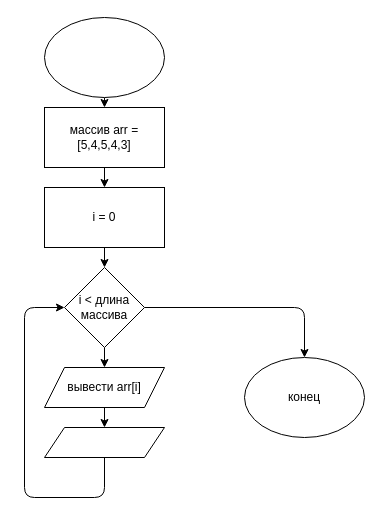
The diagram is 382 pixels wide and 523 high, and some of its shapes have lost their labels. Each missing label, with the centre of its shape:
"i = i +1" belongs at point 104,442.
"начало" belongs at point 104,57.
